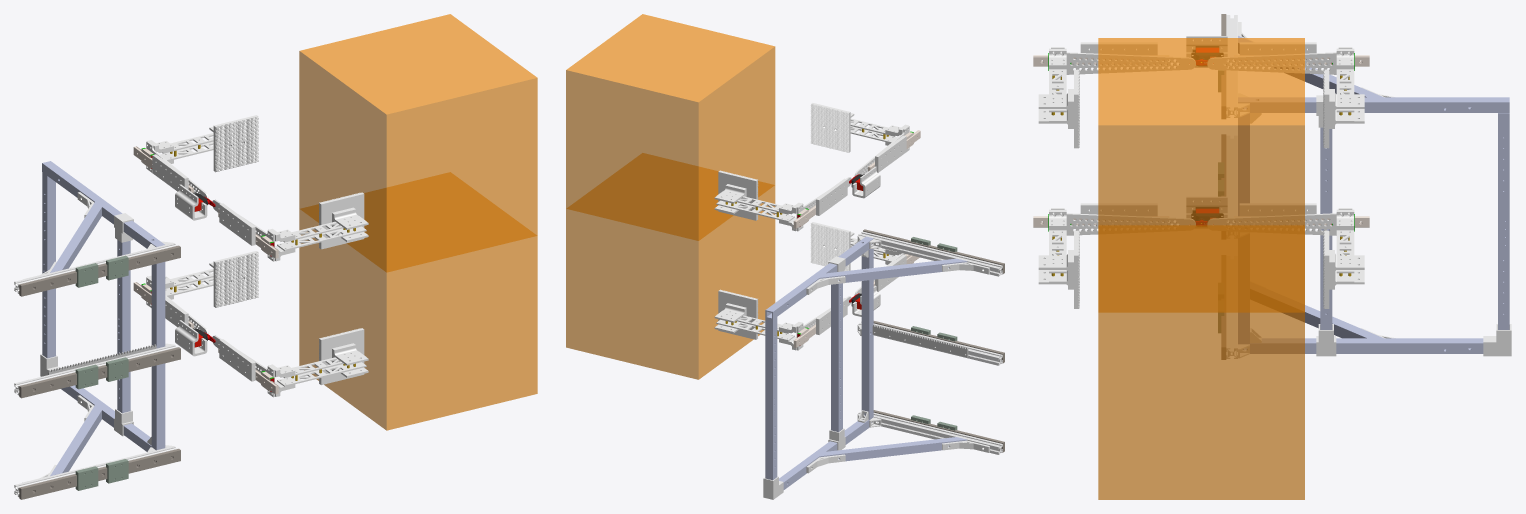
File: 1793541832663-asset_6fd04c7a8205.glb
3 renders of one model, left to right at view 1: azimuth 30°, elevation 25°; view 2: azimuth 150°, elevation 25°; view 3: azimuth 270°, elevation 25°, orthographic. The views are drawn at different scales.
Parts seen in each view (by area): view 1: 350mm正方体瓦楞盒-2, 350mm正方体瓦楞盒-1, 铝管框架-1/250mm横梁-4, 铝管框架-1/250mm横梁(中上）-2, 曲柄滑块夹爪-1/夹持部分-2, 曲柄滑块夹爪-2/夹持部分-2, 铝管框架-1/250mm横梁(中上）-1, 铝管框架-1/360mm竖梁-3, 铝管框架-1/MGW12滑轨-3, 铝管框架-1/MGW12滑轨-2, 铝管框架-1/MGW12滑轨-1, 曲柄滑块夹爪-1/夹持部分-1 (+16 smaller); view 2: 350mm正方体瓦楞盒-2, 350mm正方体瓦楞盒-1, 铝管框架-1/250mm横梁(中上）-2, 铝管框架-1/250mm横梁-4, 铝管框架-1/250mm横梁(中上）-1, 曲柄滑块夹爪-1/夹持部分-1, 铝管框架-1/斜铝管-1, 铝管框架-1/斜铝管-2, 曲柄滑块夹爪-2/夹持部分-1, 铝管框架-1/360mm竖梁-3, 铝管框架-1/2020铝型材-2, 铝管框架-1/2020铝型材-1 (+11 smaller); view 3: 350mm正方体瓦楞盒-2, 350mm正方体瓦楞盒-1, 铝管框架-1/360mm竖梁-3, 铝管框架-1/360mm竖梁-4, 铝管框架-1/250mm横梁(中上）-2, 曲柄滑块夹爪-1/连杆-4, 曲柄滑块夹爪-1/连杆-3, 铝管框架-1/250mm横梁(中上）-1, 曲柄滑块夹爪-2/连杆-4, 曲柄滑块夹爪-2/连杆-3, 铝管框架-1/250mm横梁-4, 铝管框架-1/2020铝型材-2 (+22 smaller).
Part boxes in pixels (x1,y1,x2,y2): 350mm正方体瓦楞盒-2: (299,14,537,272); 350mm正方体瓦楞盒-1: (299,172,537,430); 铝管框架-1/250mm横梁-4: (151,262,165,449); 铝管框架-1/250mm横梁(中上）-2: (42,172,55,358); 曲柄滑块夹爪-1/夹持部分-2: (213,115,258,172); 曲柄滑块夹爪-2/夹持部分-2: (213,251,258,307); 铝管框架-1/250mm横梁(中上）-1: (117,240,130,413); 铝管框架-1/360mm竖梁-3: (42,161,164,248); 铝管框架-1/MGW12滑轨-3: (19,448,180,499); 铝管框架-1/MGW12滑轨-2: (19,347,180,398); 铝管框架-1/MGW12滑轨-1: (19,245,180,296); 曲柄滑块夹爪-1/夹持部分-1: (319,192,364,249); 350mm正方体瓦楞盒-2: (566,14,775,240); 350mm正方体瓦楞盒-1: (566,153,775,379); 铝管框架-1/250mm横梁(中上）-2: (765,317,777,480); 铝管框架-1/250mm横梁-4: (861,249,873,419); 铝管框架-1/250mm横梁(中上）-1: (831,283,842,431); 曲柄滑块夹爪-1/夹持部分-1: (810,103,850,152); 铝管框架-1/斜铝管-1: (819,258,967,282); 铝管框架-1/斜铝管-2: (819,437,967,461); 曲柄滑块夹爪-2/夹持部分-1: (810,222,850,270); 铝管框架-1/360mm竖梁-3: (765,236,873,319); 铝管框架-1/2020铝型材-2: (858,231,1002,276); 铝管框架-1/2020铝型材-1: (858,412,1002,454); 350mm正方体瓦楞盒-2: (1098,38,1304,312); 350mm正方体瓦楞盒-1: (1098,226,1304,499); 铝管框架-1/360mm竖梁-3: (1238,97,1509,112); 铝管框架-1/360mm竖梁-4: (1238,338,1483,353); 铝管框架-1/250mm横梁(中上）-2: (1498,113,1509,329); 曲柄滑块夹爪-1/连杆-4: (1051,47,1195,74); 曲柄滑块夹爪-1/连杆-3: (1207,47,1352,74); 铝管框架-1/250mm横梁(中上）-1: (1320,127,1332,329); 曲柄滑块夹爪-2/连杆-4: (1051,208,1195,235); 曲柄滑块夹爪-2/连杆-3: (1207,208,1352,235); 铝管框架-1/250mm横梁-4: (1238,113,1249,342); 铝管框架-1/2020铝型材-2: (1226,15,1237,117).
Bounding box in the file's own units: 1.08 × 0.7762 × 0.8093.
